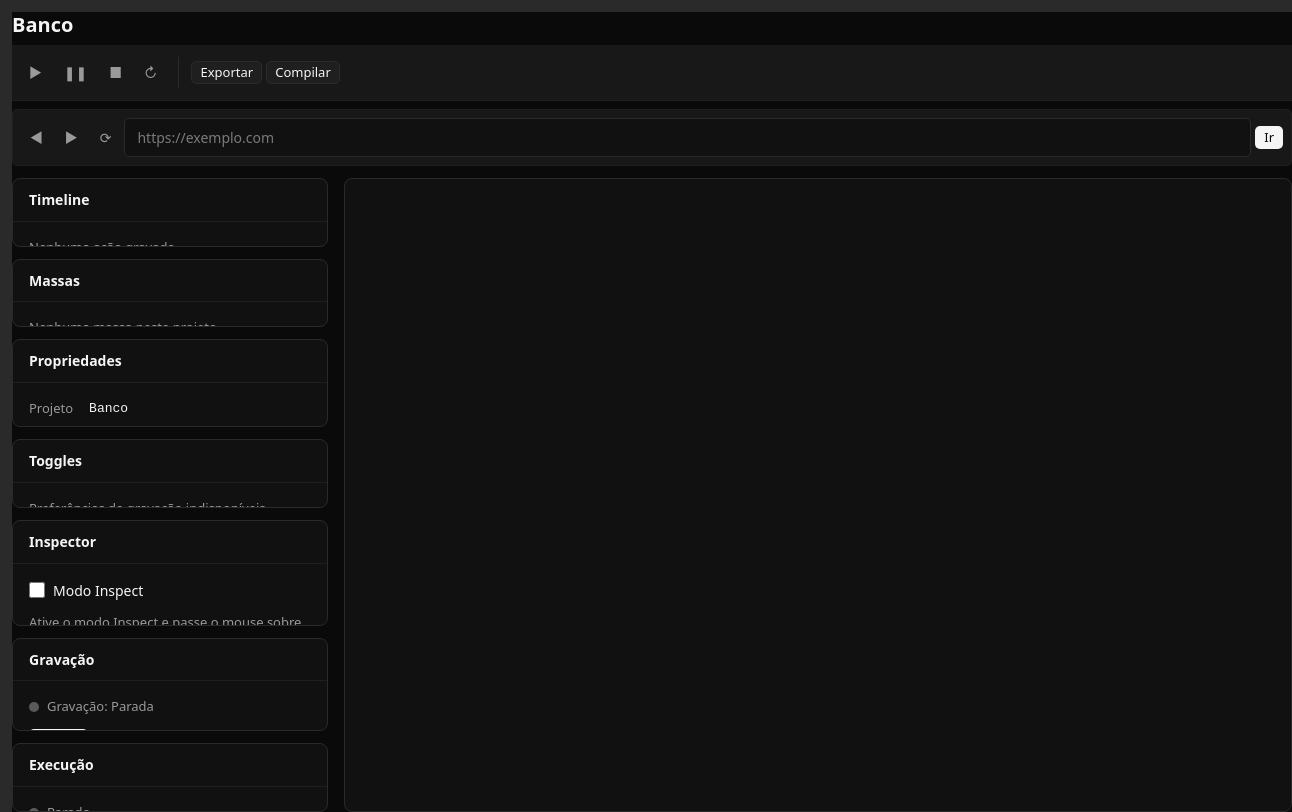
Scenario: AutomationView (PRD §9, §15) › starts a run for the active project and streams stdout to the log
The image size is (1292, 812).
Expected: the heading "Banco" is shown, x1=12 y1=11 x2=73 y2=38
What coordinates should you click on to do the following:
click the button named "Play"
I would click on:
 (35, 72)
Its box is x1=20 y1=53 x2=51 y2=92.
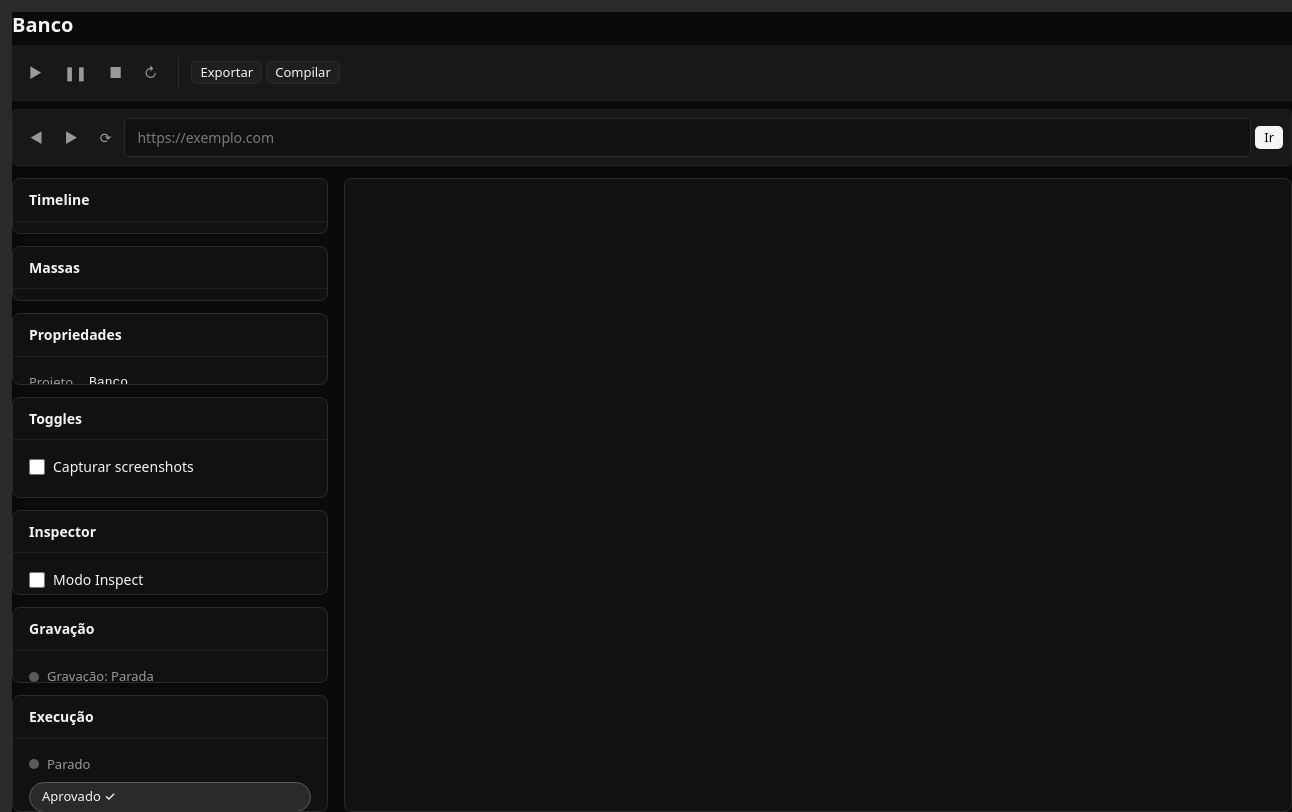
Expected: the text "Parado" is shown, x1=47 y1=754 x2=90 y2=774
Expected: the text "Aprovado ✓" is shown, x1=29 y1=782 x2=311 y2=811
